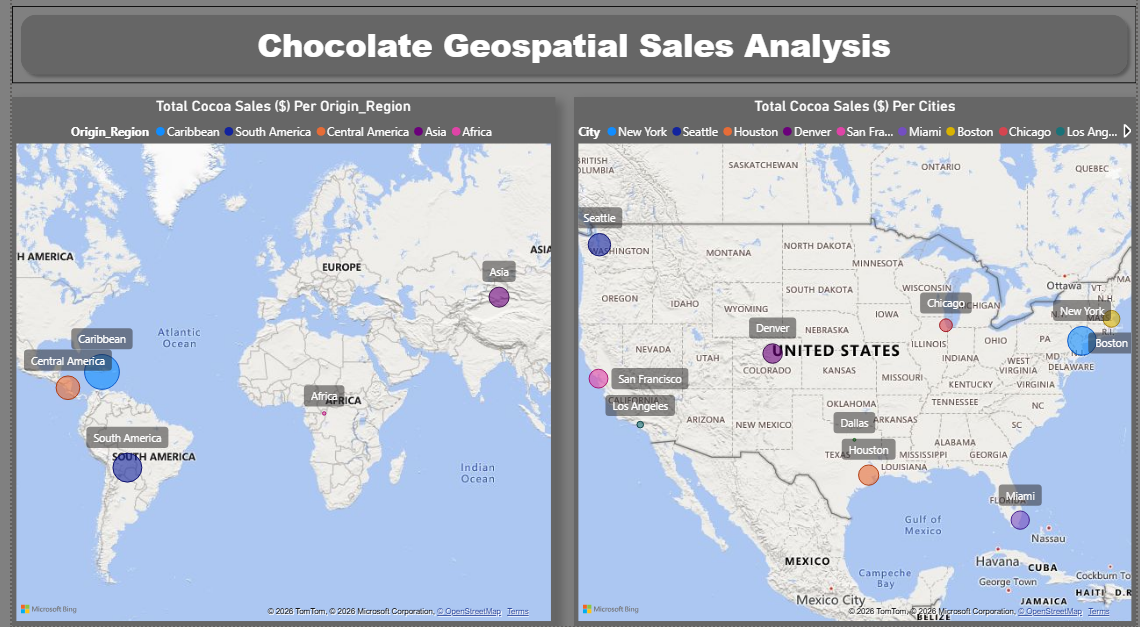

The page's visual inventory and layout, read from the dashboard file:
{"tool":"powerbi","page":{"name":"Geospatial Analysis","canvas":[1280,720],"ordinal":4},"visuals":[{"type":"map","title":"Total Cocoa Sales ($) Per Cities","fields":{"Series":["location_dimension.City"],"Size":["#Measures.Total Sales"],"Category":["location_dimension.City"]},"box":[640.3,117.3,640.3,602.7],"z":0},{"type":"map","title":"Total Cocoa Sales ($) Per Origin_Region","fields":{"Series":["product_dimension.Origin_Region"],"Size":["#Measures.Total Sales"],"Category":["product_dimension.Origin_Region"]},"box":[0,117.3,618.6,602.7],"z":1000},{"type":"shape","box":[0,10.3,1280.5,96.8],"z":2000}]}

Visuals, with their boxes in screenshot pixels (x1, y1, x2, y2), scaled from the page's 1280x720 canvas onto the 1140x627 screenshot:
"Total Cocoa Sales ($) Per Cities" map: (left=570, top=102, right=1139, bottom=626)
"Total Cocoa Sales ($) Per Origin_Region" map: (left=0, top=102, right=551, bottom=626)
shape: (left=0, top=9, right=1139, bottom=93)
